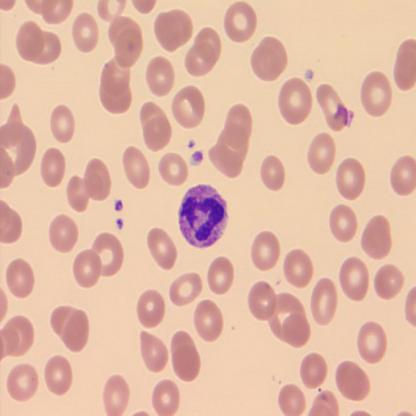Segmented neutrophil: (175, 181, 231, 251)
